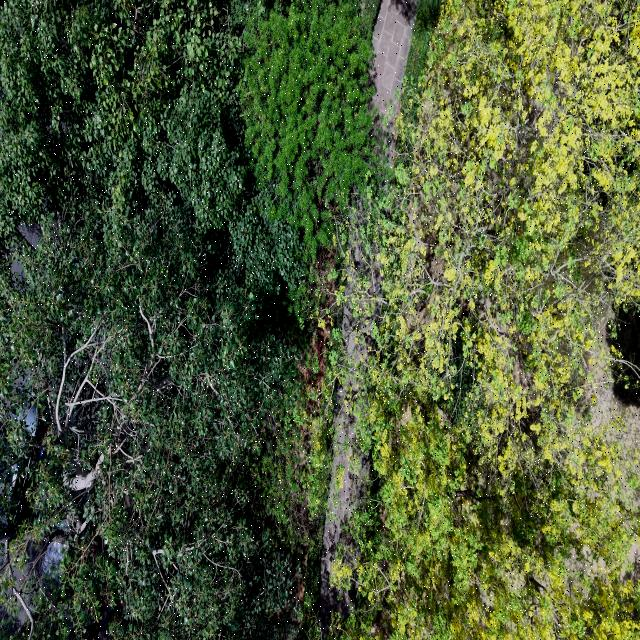DRY_AREA: (317, 220, 380, 636), (585, 359, 639, 508)
PATHWAYS: (318, 219, 380, 636), (372, 0, 416, 116)
VEGETATION_TREE: (0, 0, 639, 639), (0, 2, 324, 637), (352, 0, 639, 638), (243, 0, 374, 253)
